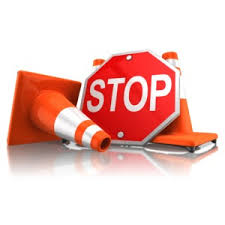SS: (81, 53, 180, 148)
